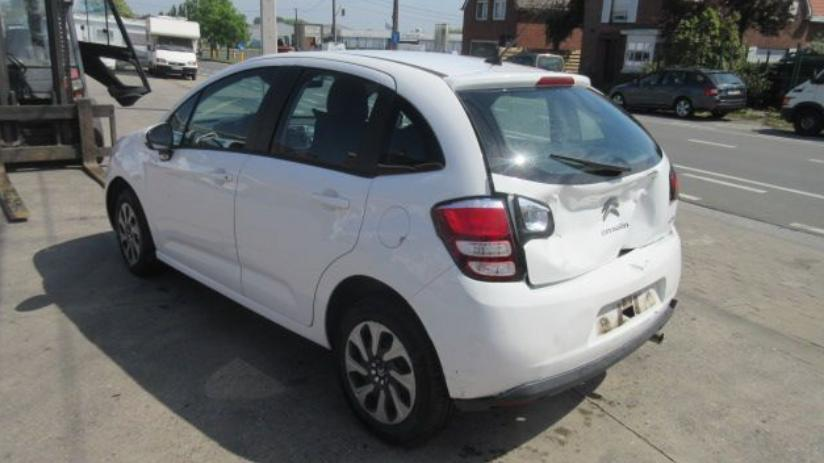Back-bumper: (409, 223, 683, 411)
Back-door: (234, 58, 396, 326)
Back-wheel: (333, 297, 452, 447)
Back-window: (273, 74, 381, 169), (382, 105, 433, 165)
Back-windshield: (457, 86, 662, 185)
Fender: (107, 136, 159, 252)
Front-door: (143, 58, 299, 292)
Front-wheel: (115, 191, 155, 275)
Front-window: (182, 70, 283, 149), (169, 99, 194, 142)
Headlight: (110, 136, 133, 159)
Quarter-panel: (312, 167, 493, 332)
Rocker-panel: (156, 251, 331, 350)
Roof: (269, 49, 552, 77)
Tail-light: (434, 198, 524, 282), (668, 160, 680, 225)
Trunk: (490, 150, 672, 288), (444, 71, 591, 91)
